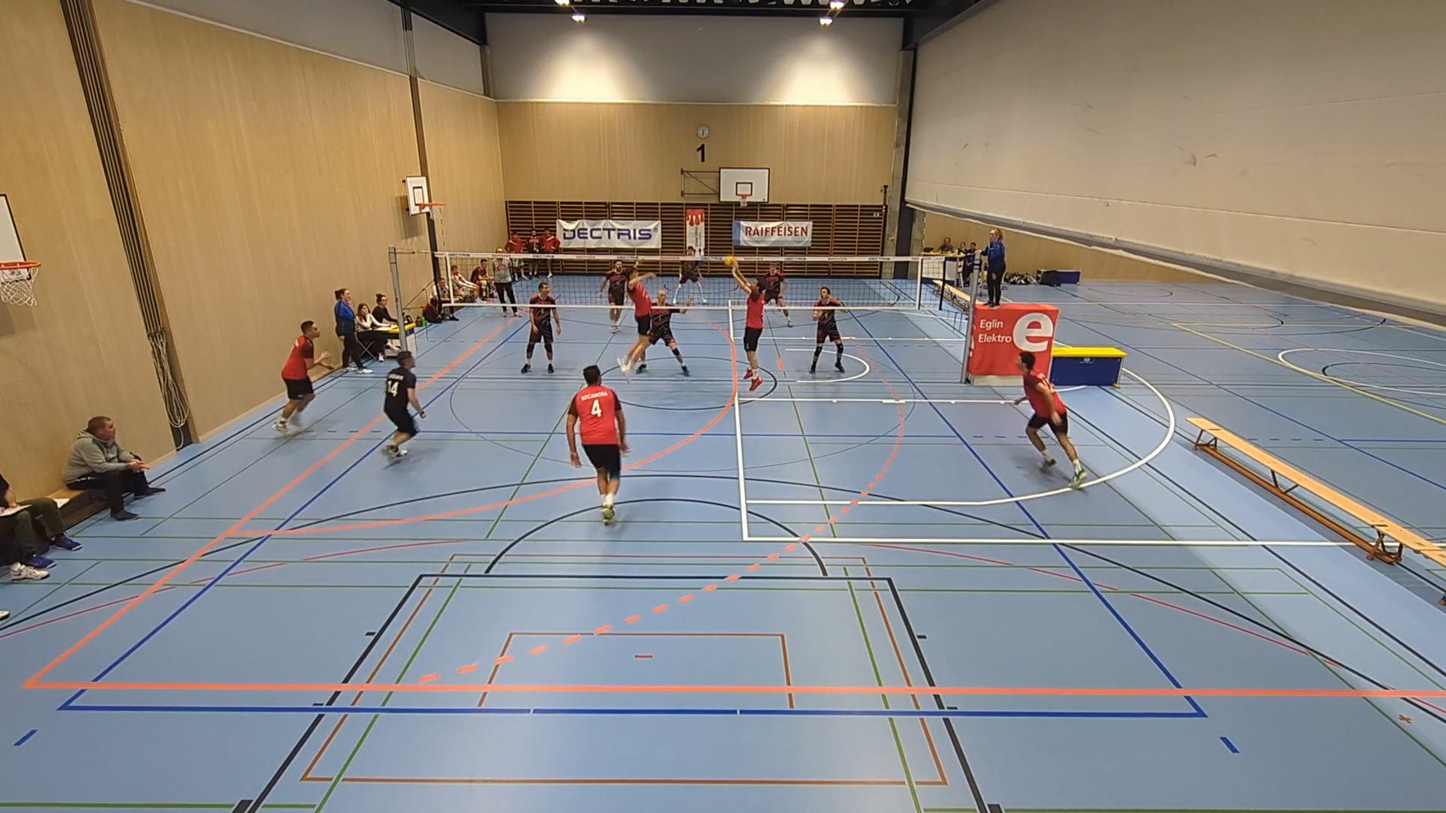Attack: (610, 257, 668, 376)
Player: (1014, 352, 1086, 487), (566, 365, 627, 522), (273, 320, 334, 432), (383, 351, 425, 459), (520, 282, 561, 373), (648, 291, 691, 376), (810, 286, 844, 372), (599, 260, 628, 333), (761, 263, 792, 325), (677, 247, 706, 305)
Set: (723, 261, 775, 379)
ball: (723, 256, 736, 267)
